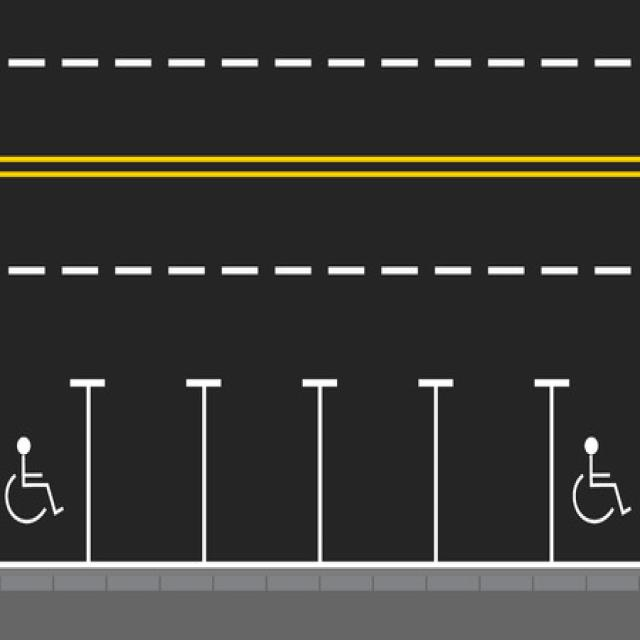discapacitados: (1, 369, 89, 565), (554, 377, 640, 564)
libre: (91, 383, 544, 564)
